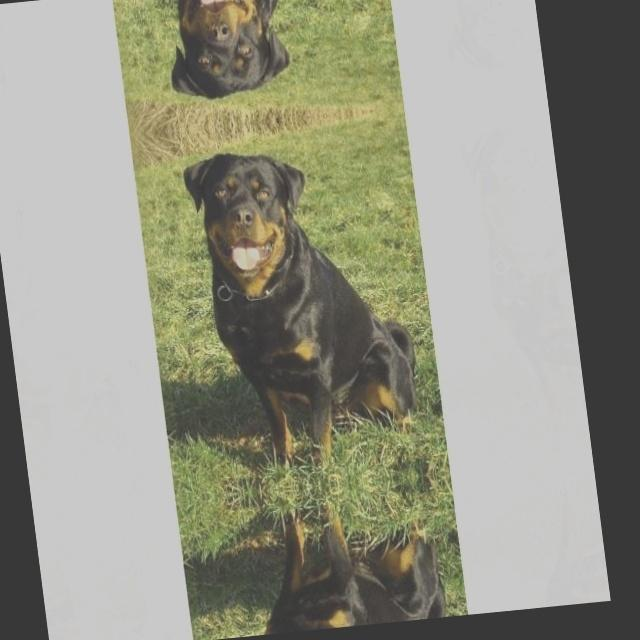dog: (168, 120, 422, 467), (217, 505, 444, 638), (150, 0, 378, 122)
